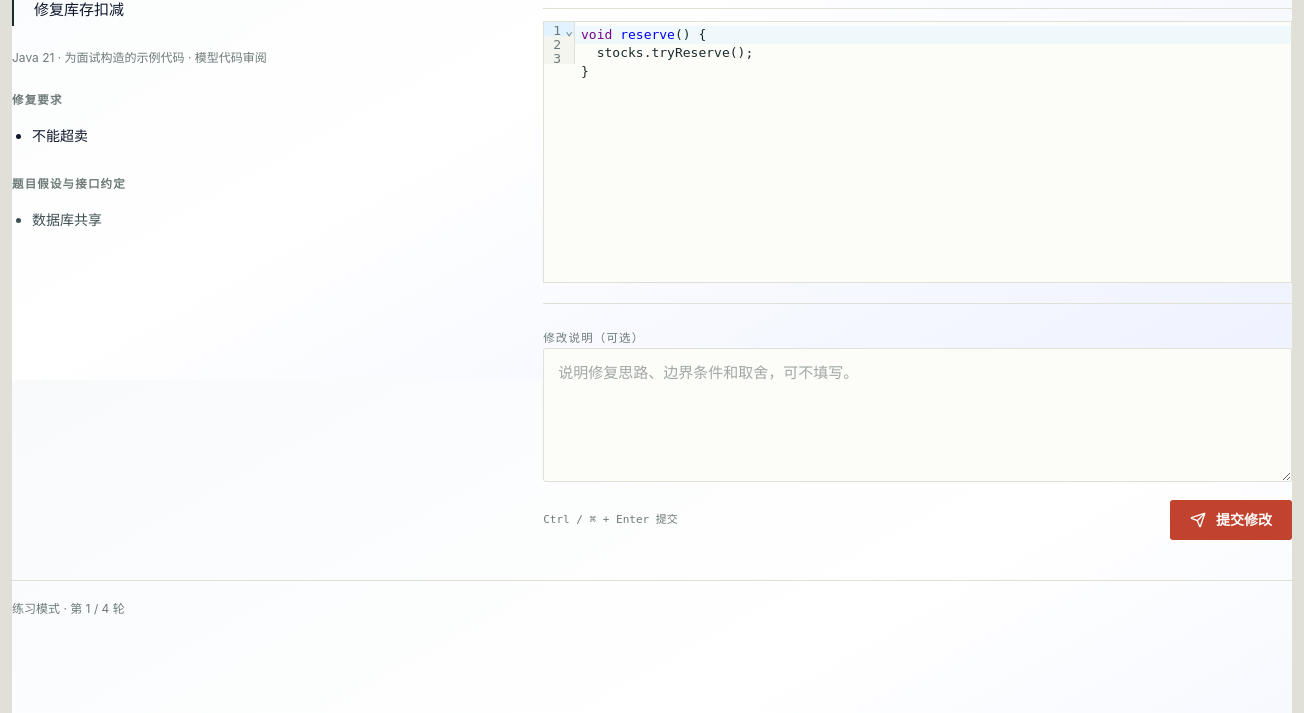
Test: 状态恢复失败只读锁定的草稿仍标为当前修改，不冒充正式提交
(page scrolled)
What coordinates should you click on to do the following:
click the button "提交修改"
I would click on:
 (1231, 520)
Its box is top-left (1170, 500), bottom-right (1292, 540).
(page scrolled)
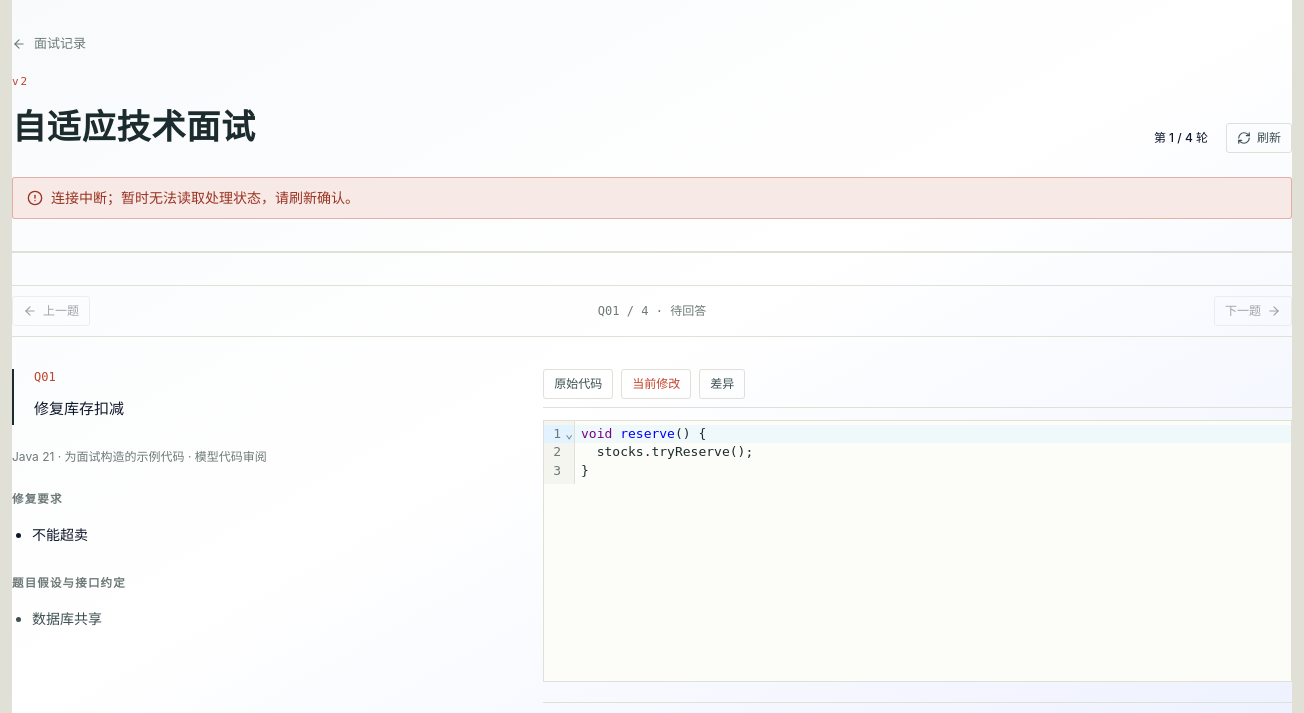
expect the tab "当前修改" is shown: met, box top-left (621, 369), bottom-right (691, 399)
expect the text "连接中断；暂时无法读取处理状态，请刷新确认。" is shown: met, box top-left (51, 188), bottom-right (359, 208)
